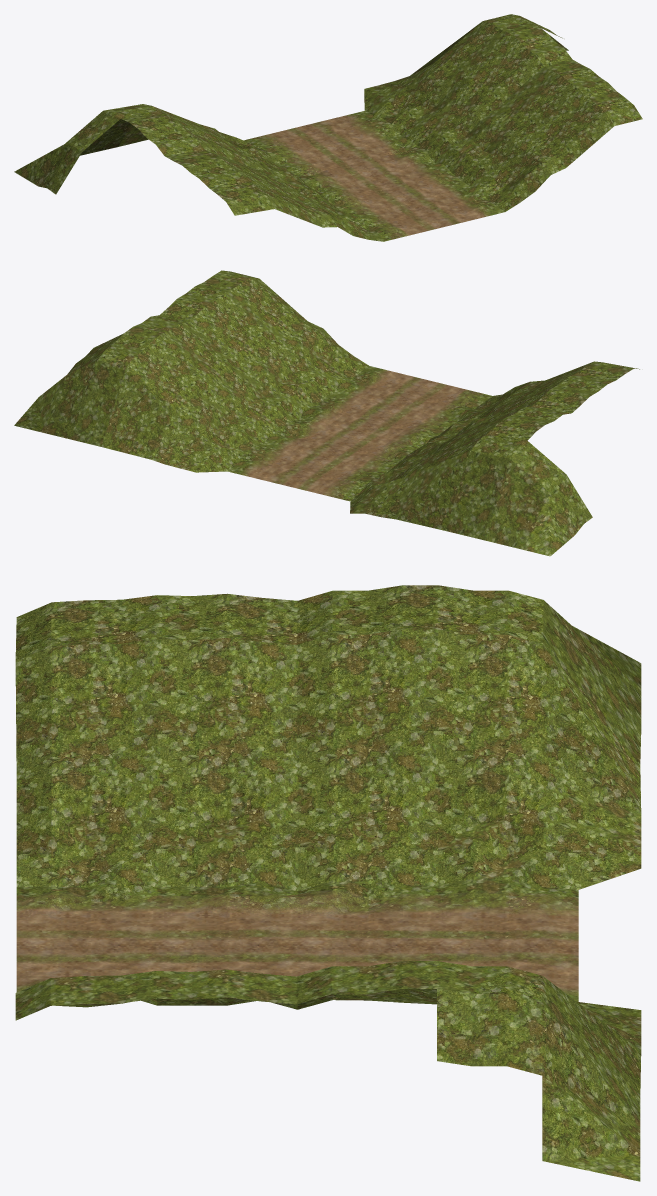
Rendered from Landscape.glb.
The picture shows the model from 3 angles, top to bottom: view 1: azimuth 30°, elevation 25°; view 2: azimuth 150°, elevation 25°; view 3: azimuth 270°, elevation 25°; orthographic projection. The views are drawn at different scales.
Visible parts, largest first — view 1: Plane.002; view 2: Plane.002; view 3: Plane.002.
Part boxes in pixels (x1=…): Plane.002: x1=14, y1=14, x2=642, y2=241; Plane.002: x1=14, y1=270, x2=639, y2=556; Plane.002: x1=15, y1=585, x2=641, y2=1181.
Bounding box in the file's own units: 32.58 × 4.73 × 16.64.
Materials: 1 (1 with a texture image).
